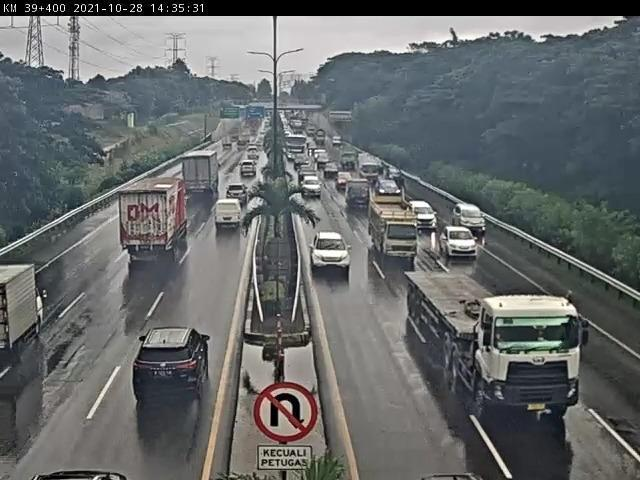car: (136, 329, 211, 403), (316, 234, 351, 269), (444, 228, 479, 258), (215, 200, 244, 232), (409, 203, 441, 231), (456, 206, 487, 233), (347, 179, 372, 207), (376, 182, 402, 201), (228, 184, 251, 204), (303, 178, 323, 197), (382, 164, 401, 183), (338, 170, 353, 190), (241, 162, 258, 177), (294, 157, 310, 170), (299, 167, 315, 180), (317, 152, 330, 166), (325, 163, 338, 177), (249, 147, 261, 160)
truck: (407, 270, 584, 428), (121, 177, 190, 263), (1, 268, 47, 359), (370, 201, 418, 261), (183, 153, 220, 198), (359, 155, 383, 181), (286, 136, 308, 163), (340, 150, 355, 165)
